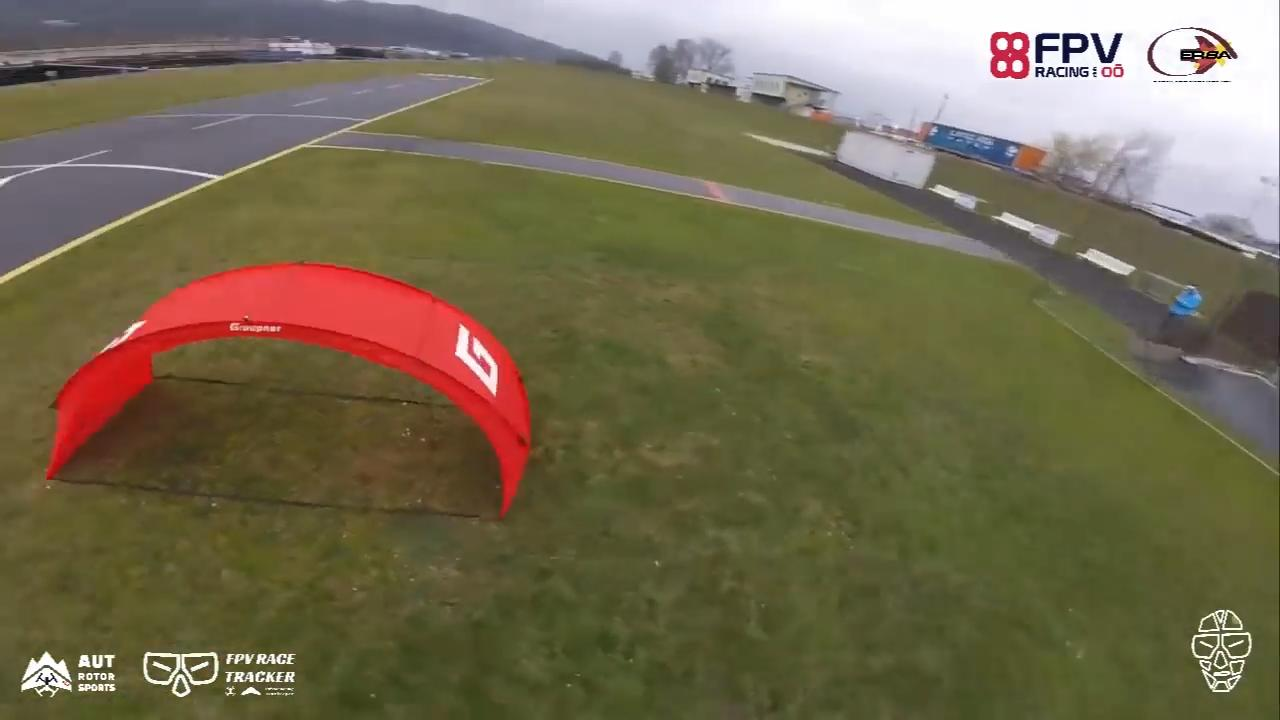gate: (41, 259, 535, 527)
